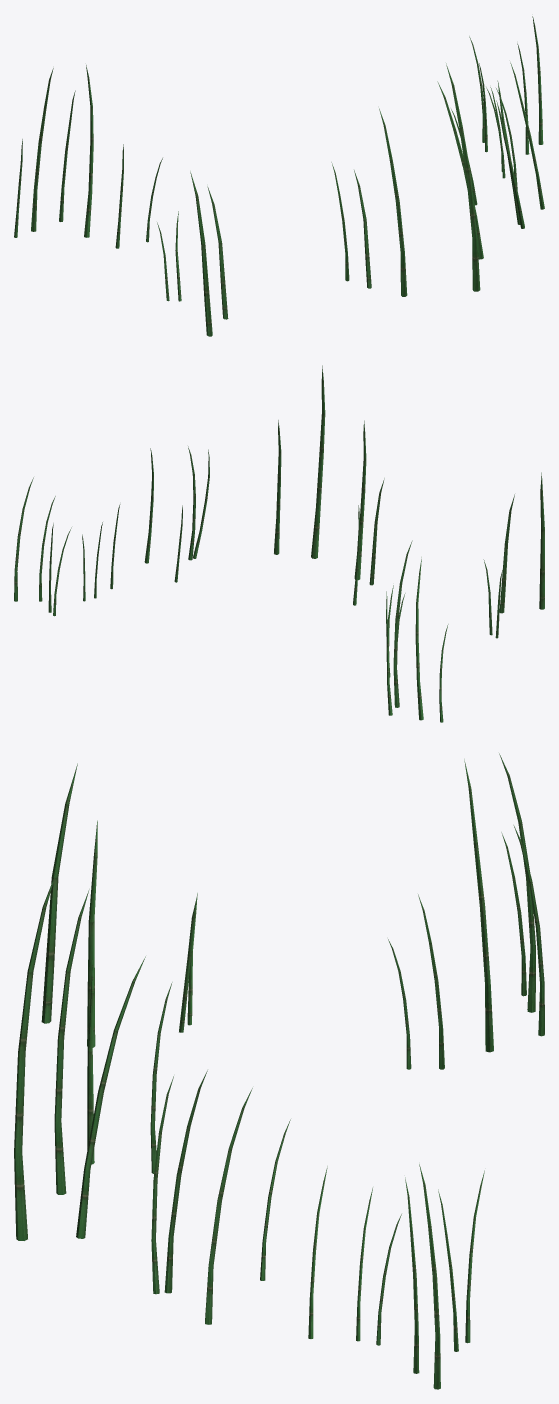
The model's file is Area_10_29.fbx.
The picture shows the model from 3 angles, top to bottom: view 1: azimuth 30°, elevation 25°; view 2: azimuth 150°, elevation 25°; view 3: azimuth 270°, elevation 25°; orthographic projection. The views are drawn at different scales.
Visible parts, largest first — view 1: Area_10_29; view 2: Area_10_29; view 3: Area_10_29.
Part boxes in pixels (x1,y1,x2,y2): Area_10_29: (14, 16, 544, 336); Area_10_29: (14, 365, 544, 722); Area_10_29: (14, 753, 544, 1389).
Bounding box in the file's own units: 4260 × 1838 × 2494.
